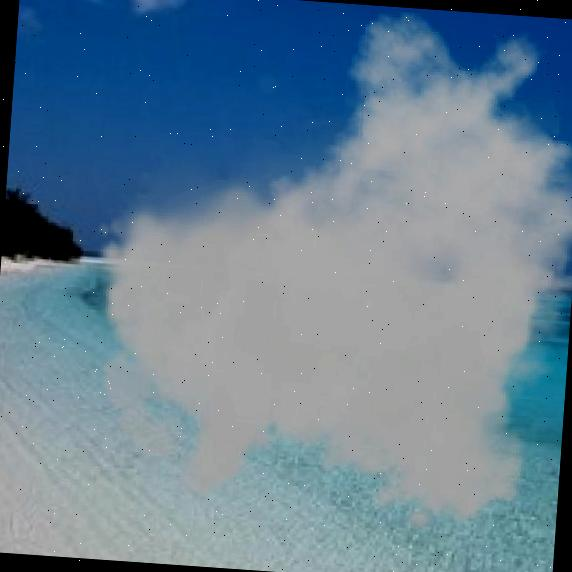smoke: (77, 0, 572, 547)
